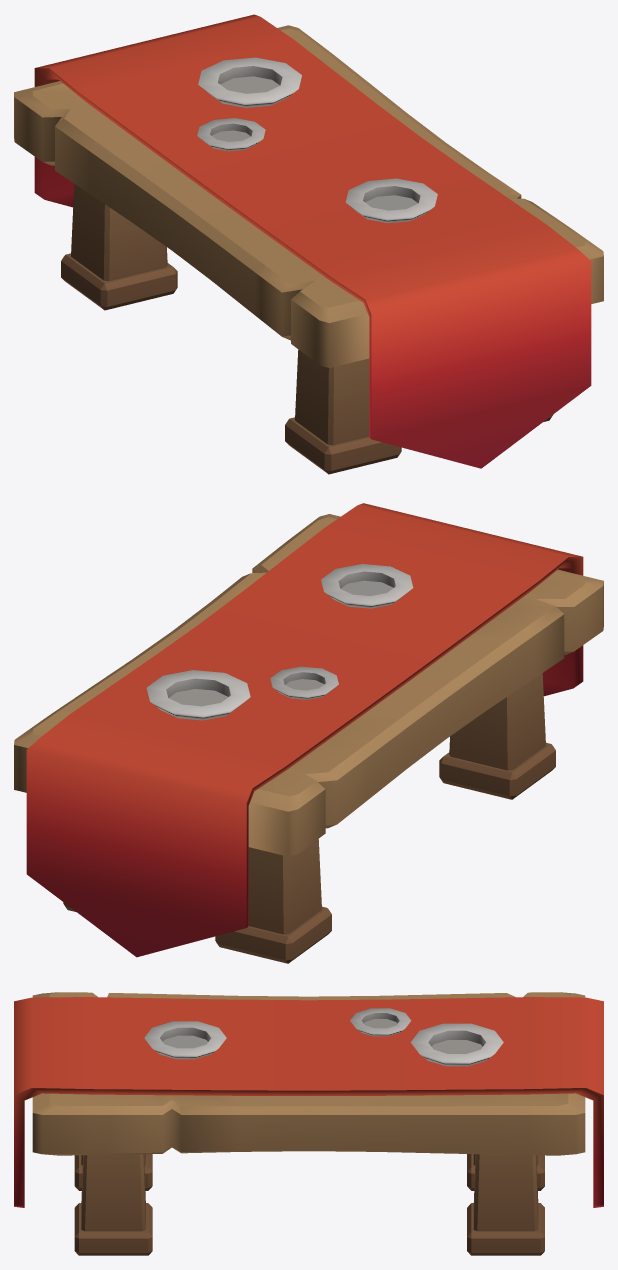
File: dungeonkit_decor_table.fbx
3 renders of one model, top to bottom at view 1: azimuth 30°, elevation 25°; view 2: azimuth 150°, elevation 25°; view 3: azimuth 270°, elevation 25°, orthographic. The views are drawn at different scales.
Parts seen in each view (by area): view 1: Cylinder.037; view 2: Cylinder.037; view 3: Cylinder.037.
Boxes of the visible parts, box(x1,y1,x2,y2) form: Cylinder.037: box(14, 14, 603, 474); Cylinder.037: box(14, 503, 603, 963); Cylinder.037: box(14, 992, 603, 1255).
Bounding box in the file's own units: 264 × 180 × 542.
